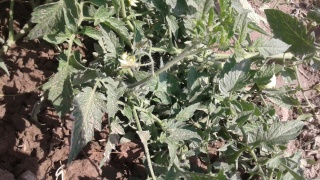tomato flower: (111, 48, 148, 77)
tomato plant: (87, 88, 303, 143), (31, 1, 244, 39)
